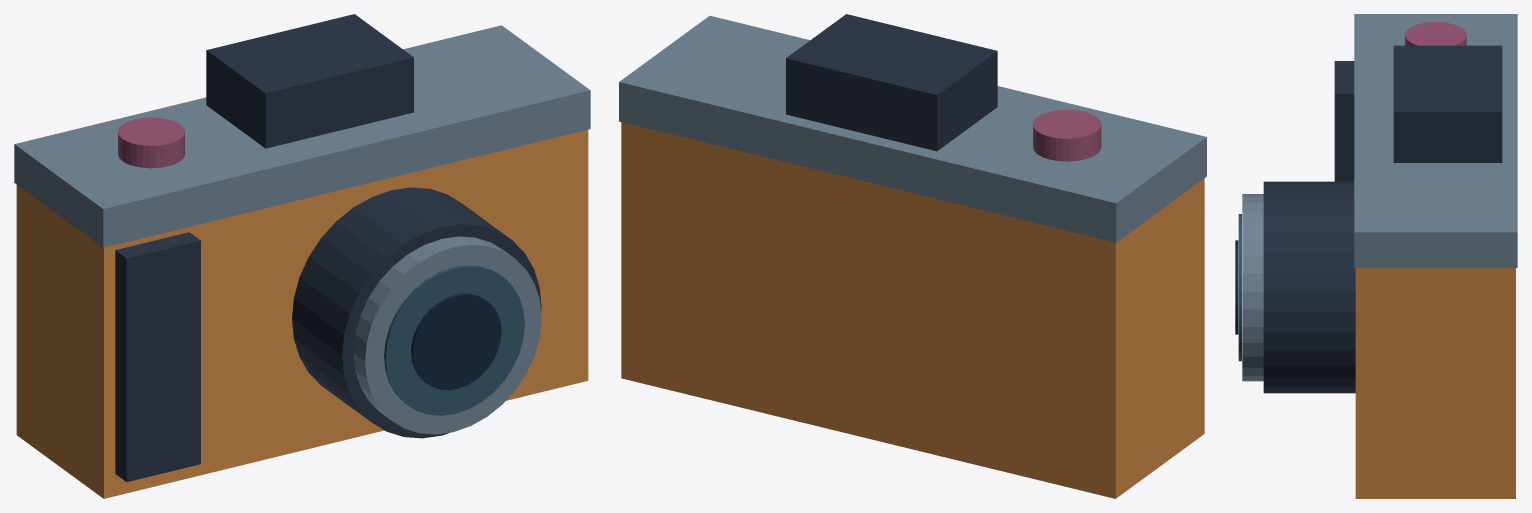
File: camera.glb
The picture shows the model from 3 angles, left to right: view 1: azimuth 30°, elevation 25°; view 2: azimuth 150°, elevation 25°; view 3: azimuth 270°, elevation 25°; orthographic projection. The views are drawn at different scales.
Visible parts, largest first — view 1: body, silver top, viewfinder, grip, lens barrel, lens ring, lens face, inner glass, shutter; view 2: body, silver top, viewfinder, shutter; view 3: body, silver top, lens barrel, viewfinder, lens ring, grip, shutter, lens face, inner glass.
Boxes of the visible parts, x1=… form: body: x1=16, y1=129, x2=588, y2=498; silver top: x1=14, y1=25, x2=590, y2=247; viewfinder: x1=206, y1=14, x2=413, y2=148; grip: x1=115, y1=232, x2=200, y2=481; lens barrel: x1=292, y1=187, x2=541, y2=438; lens ring: x1=353, y1=236, x2=541, y2=434; lens face: x1=384, y1=265, x2=524, y2=415; inner glass: x1=411, y1=293, x2=501, y2=390; shutter: x1=118, y1=117, x2=184, y2=168; body: x1=621, y1=122, x2=1204, y2=498; silver top: x1=619, y1=15, x2=1206, y2=242; viewfinder: x1=786, y1=14, x2=997, y2=151; shutter: x1=1033, y1=109, x2=1101, y2=161; body: x1=1355, y1=268, x2=1515, y2=498; silver top: x1=1354, y1=14, x2=1517, y2=267; lens barrel: x1=1263, y1=181, x2=1355, y2=393; viewfinder: x1=1393, y1=45, x2=1502, y2=162; lens ring: x1=1242, y1=194, x2=1263, y2=381; grip: x1=1334, y1=61, x2=1354, y2=181; shutter: x1=1405, y1=22, x2=1466, y2=45; lens face: x1=1238, y1=214, x2=1241, y2=361; inner glass: x1=1235, y1=240, x2=1238, y2=334.
Size of the model in its own units: 1.71 by 1.16 by 0.933.
